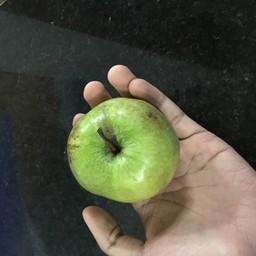Bad_apple: (58, 103, 186, 203)
